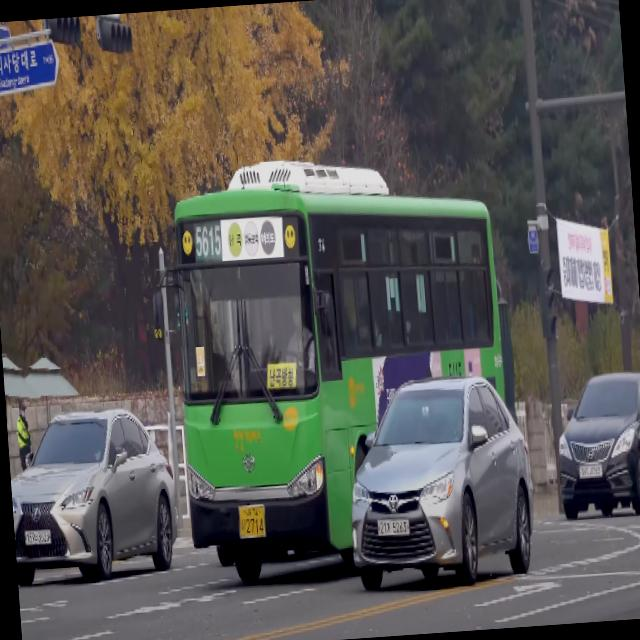bus-number: (194, 223, 222, 259)
